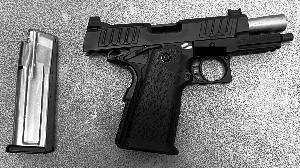handgun: (84, 13, 296, 161)
